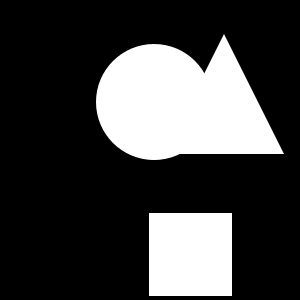circle: (149, 213, 232, 296)
rectangle: (96, 44, 212, 160)
triangle: (164, 34, 284, 154)
